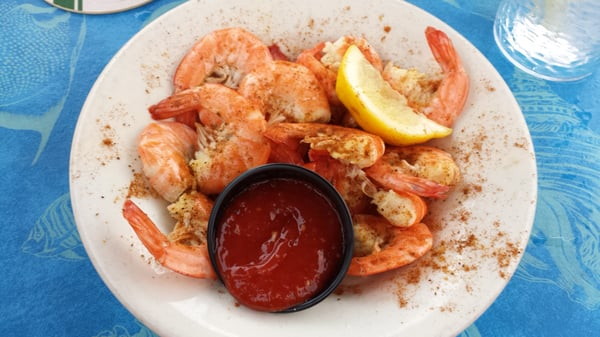taco: (335, 44, 452, 147)
